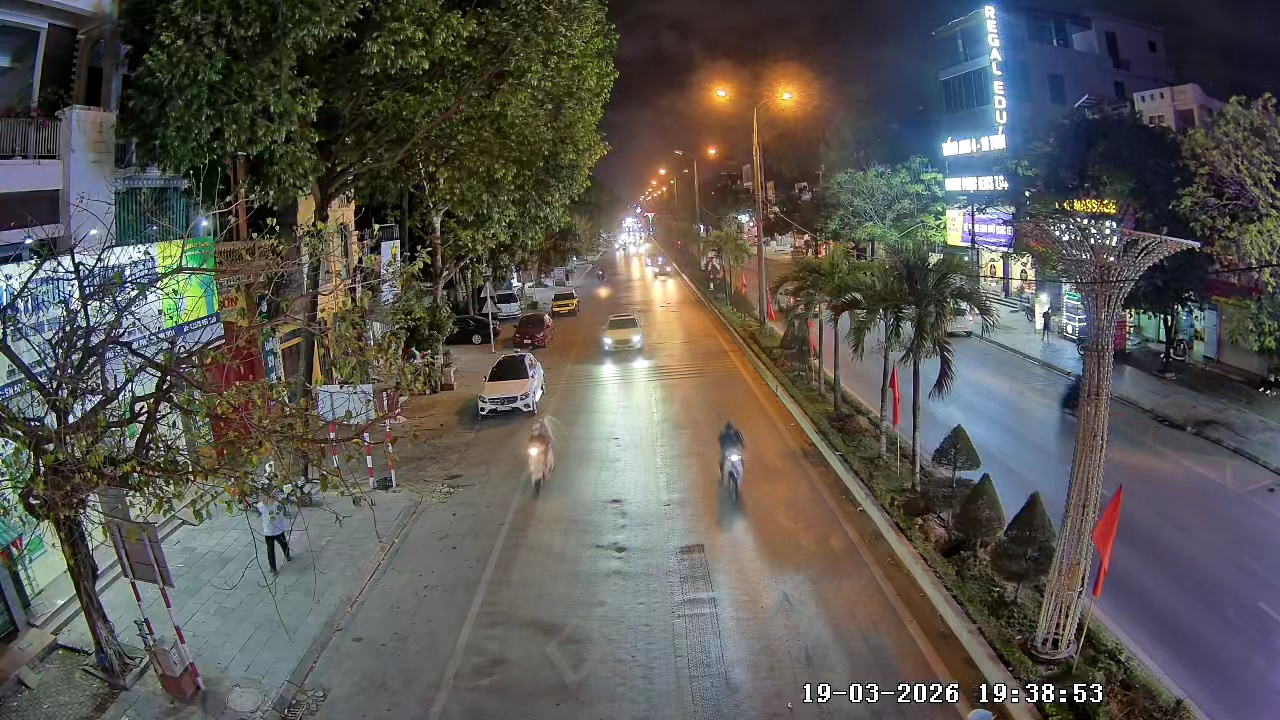car: (476, 348, 548, 419), (521, 415, 557, 497), (601, 310, 644, 349), (513, 311, 552, 348), (551, 284, 581, 316)
motorbike: (714, 417, 751, 507), (522, 415, 557, 496)
